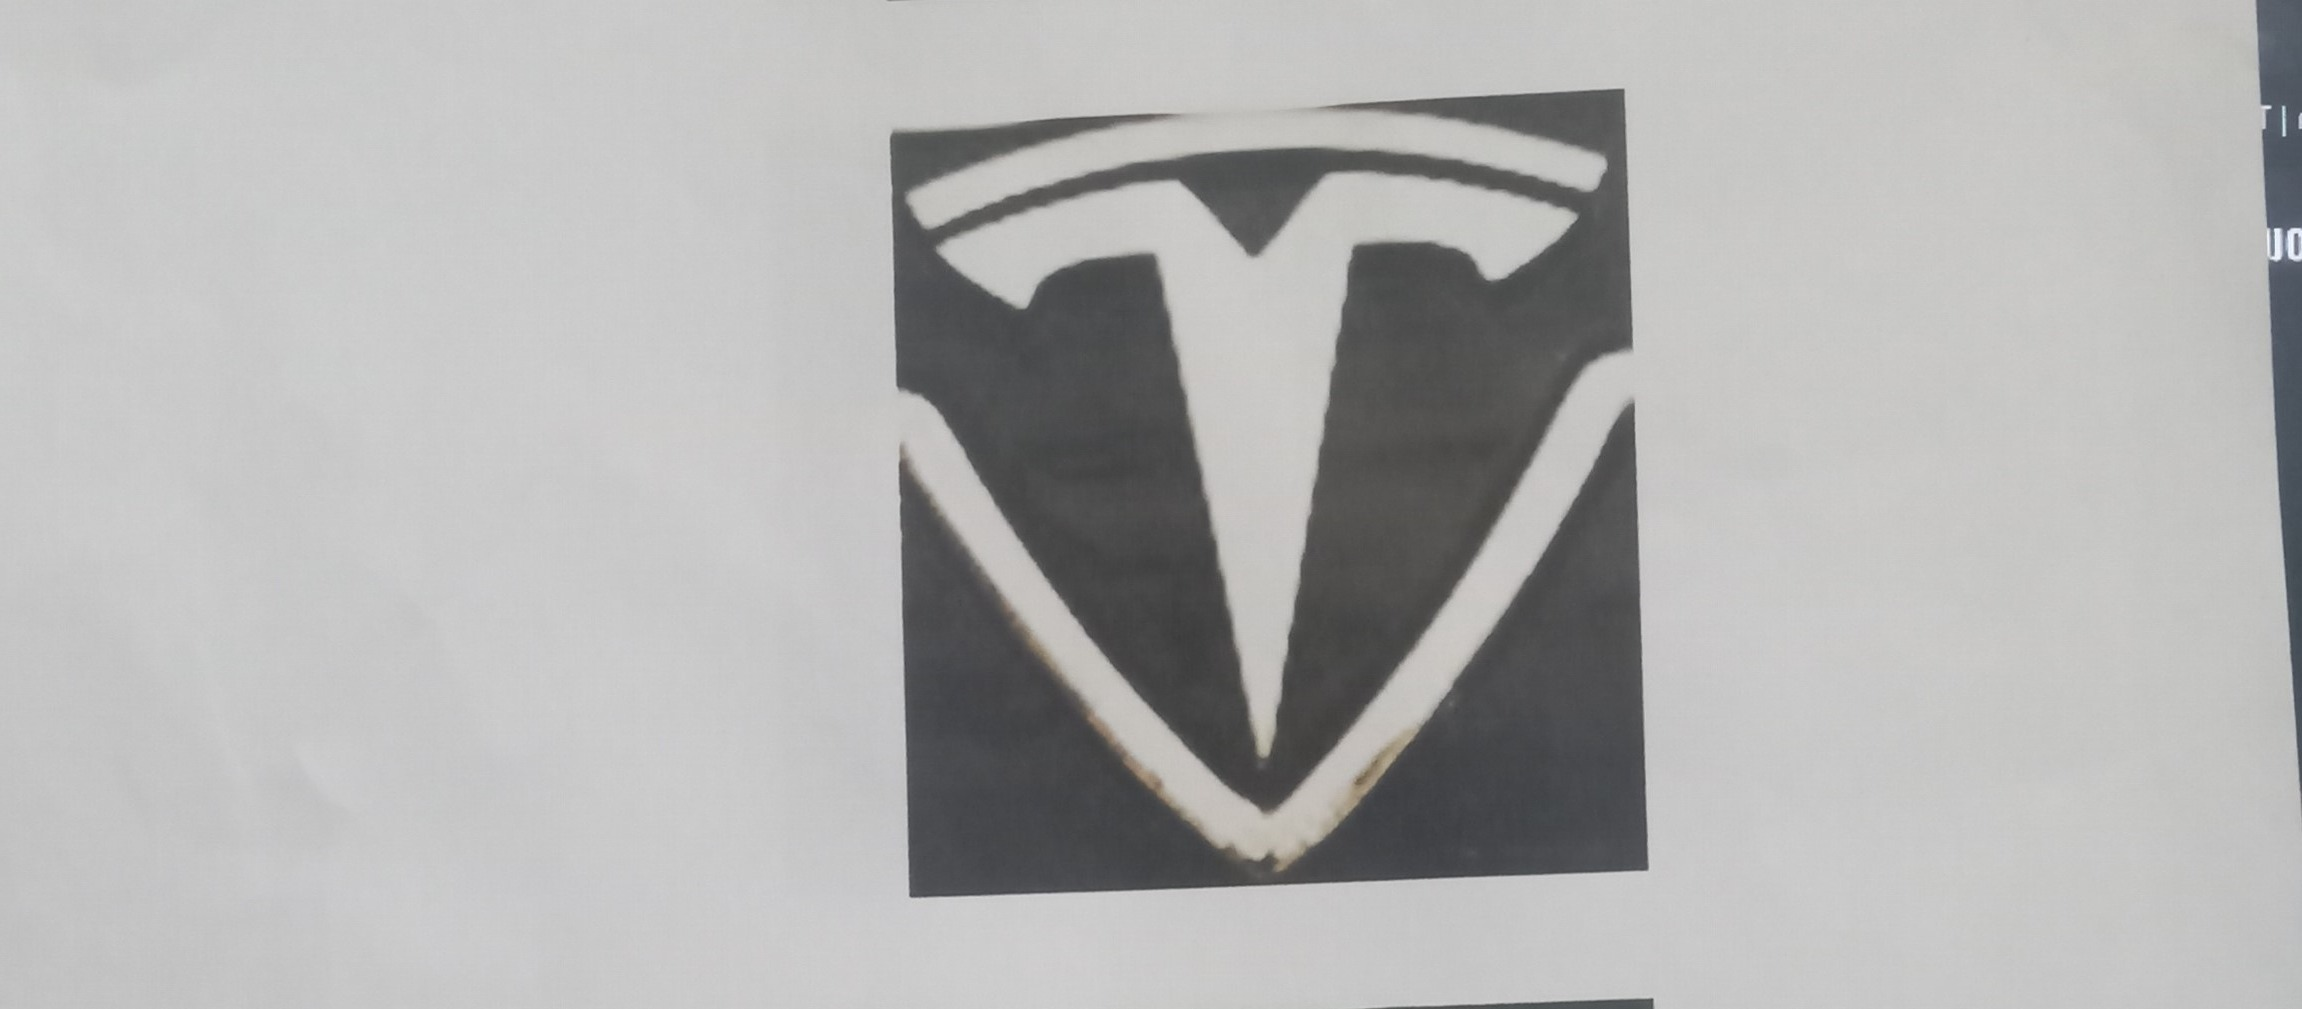Tesla: (893, 107, 1641, 883)
